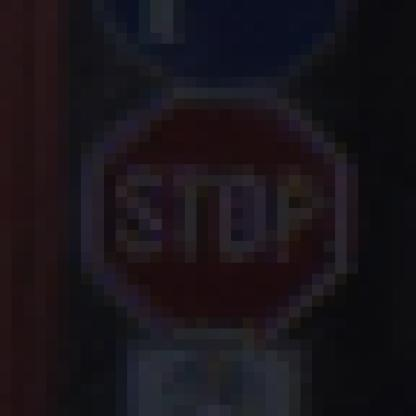stop: (74, 68, 376, 352)
